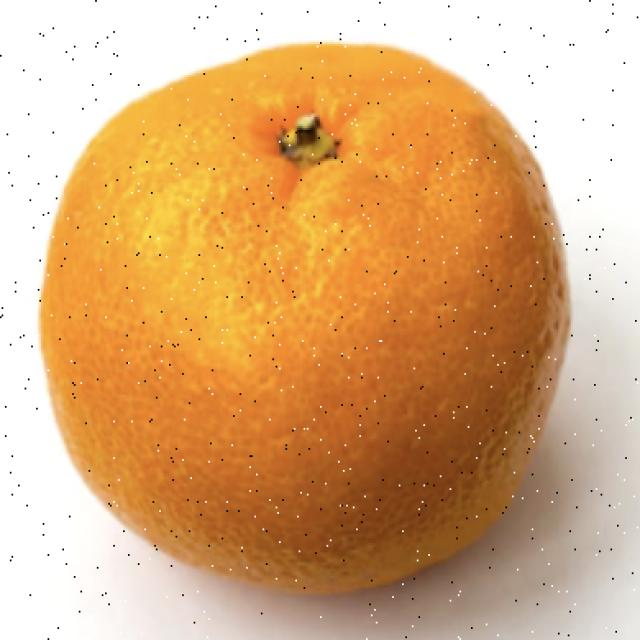orange: (38, 46, 586, 598)
